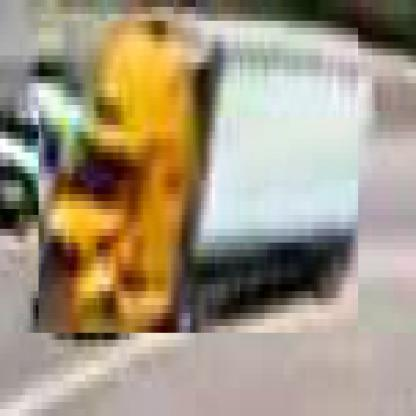container: (37, 22, 359, 341)
